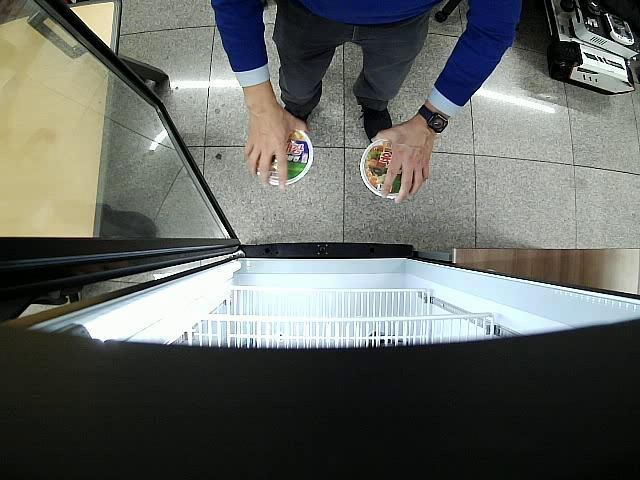09_yukGaeJang: (256, 128, 314, 185), (360, 138, 402, 198)
